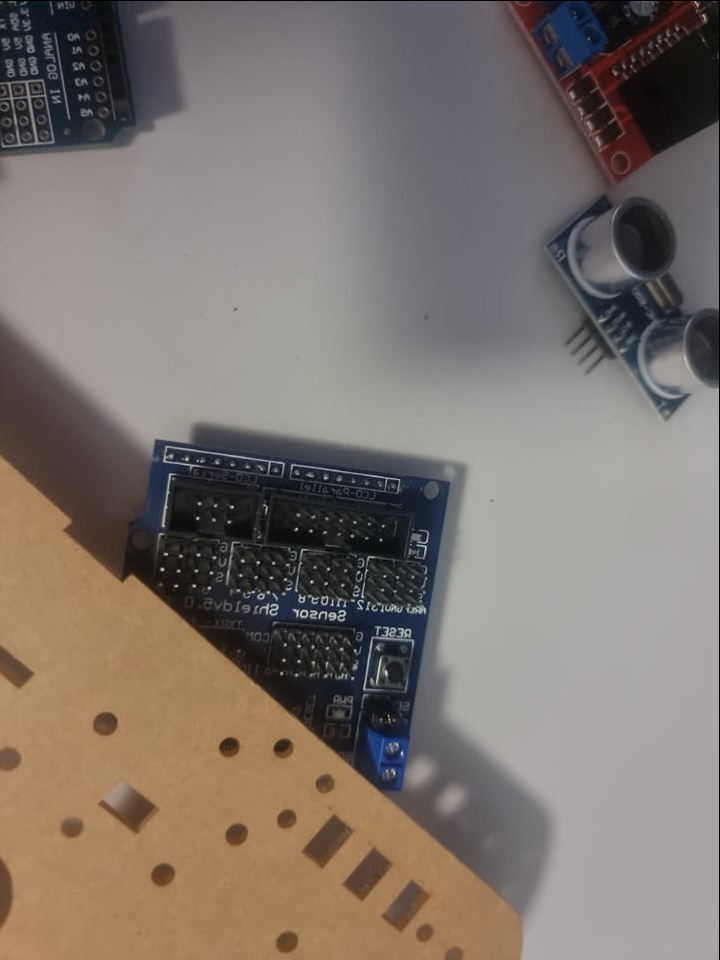5V EXPANSION: (112, 434, 468, 800)
MOTOR: (503, 0, 720, 177)
SENSOR: (547, 196, 720, 426)
